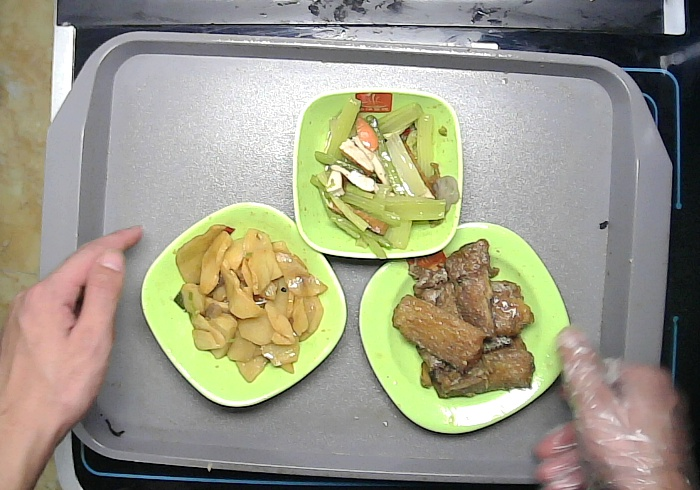SHKJ-Lv_Se_Cai_Die: (139, 200, 348, 412)
SHKJ-Lv_Se_Si_Fang_Cai_Die: (357, 220, 578, 436)
SHKJ-Lv_Se_Xiao_Fang_Die: (289, 86, 465, 265)
